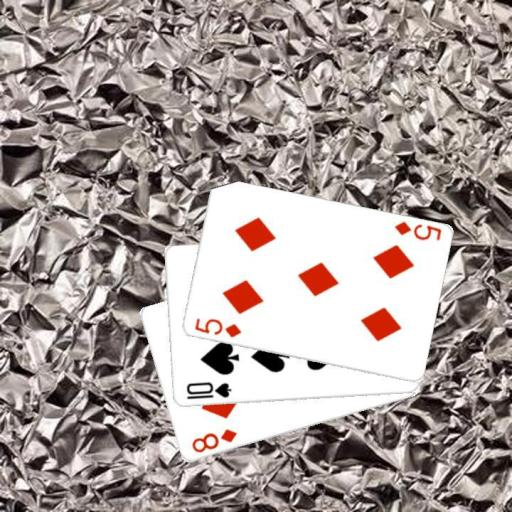10S: (183, 379, 233, 401)
5D: (192, 315, 243, 340), (391, 219, 443, 243)
8D: (189, 426, 239, 454)
